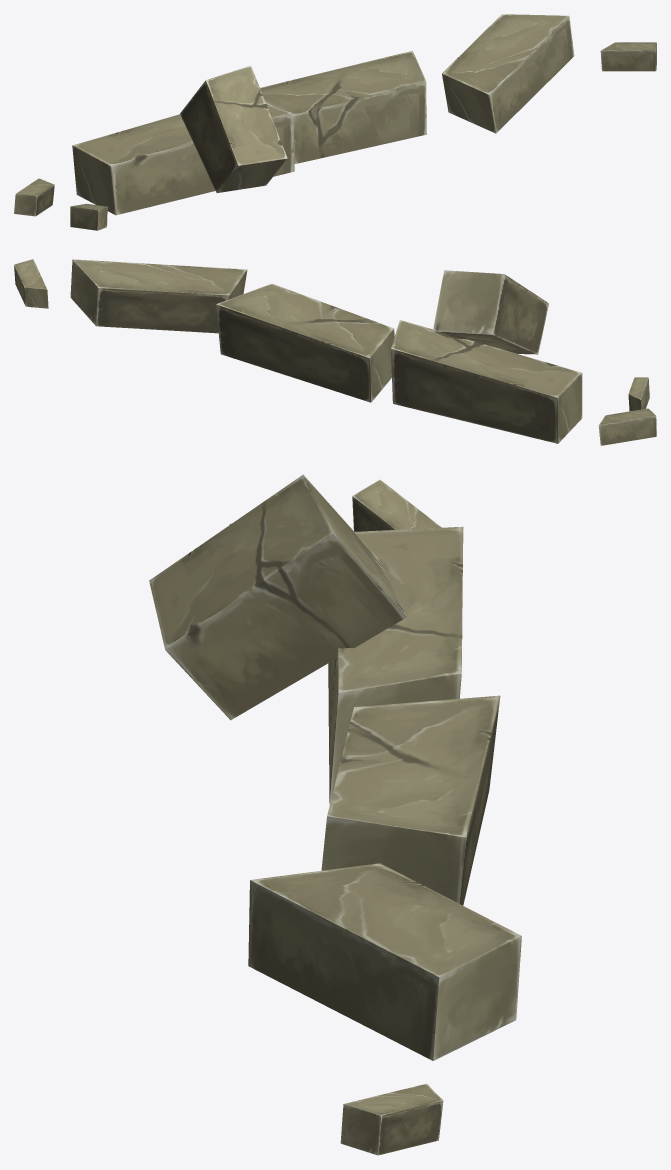
The model's file is wallrocks_top1.fbx.
The picture shows the model from 3 angles, top to bottom: view 1: azimuth 30°, elevation 25°; view 2: azimuth 150°, elevation 25°; view 3: azimuth 270°, elevation 25°; orthographic projection. The views are drawn at different scales.
Visible parts, largest first — view 1: rocks1; view 2: rocks1; view 3: rocks1.
Part boxes in pixels (left/top/right/bottom): rocks1: left=14, top=14, right=656, bottom=230; rocks1: left=14, top=259, right=656, bottom=445; rocks1: left=149, top=474, right=521, bottom=1155.
Bounding box in the file's own units: 1.77 × 0.3166 × 0.4441.
